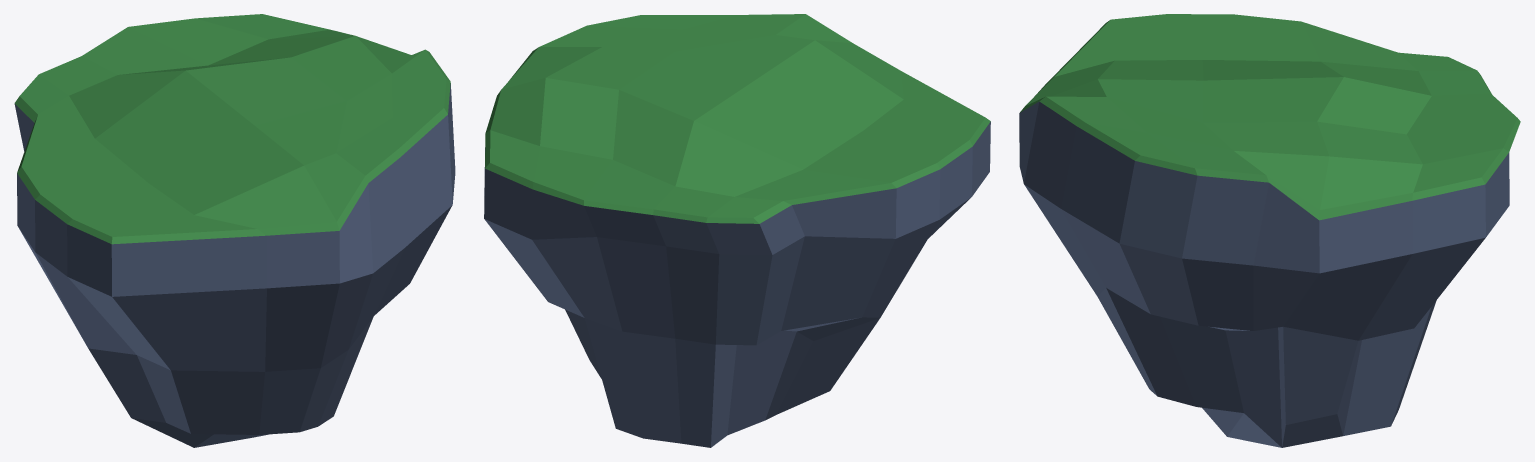
Rendered from Island02.fbx.
The picture shows the model from 3 angles, left to right: view 1: azimuth 30°, elevation 25°; view 2: azimuth 150°, elevation 25°; view 3: azimuth 270°, elevation 25°; orthographic projection. The views are drawn at different scales.
Parts seen in each view (by area): view 1: Island02; view 2: Island02; view 3: Island02.
Part boxes in pixels (x1=…): Island02: x1=14, y1=14, x2=455, y2=447; Island02: x1=484, y1=14, x2=990, y2=447; Island02: x1=1019, y1=14, x2=1520, y2=447.
Size of the model in its own units: 3129 by 2348 by 3187.
